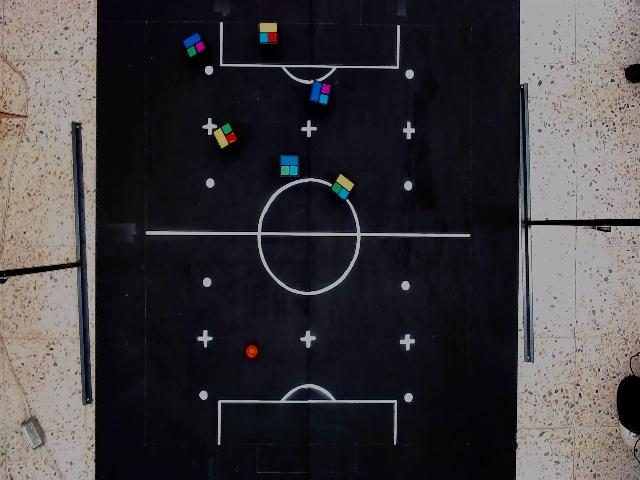robot: (329, 171, 356, 203), (212, 122, 238, 150), (182, 32, 206, 59), (309, 80, 332, 107), (279, 153, 301, 179), (258, 20, 279, 45)
